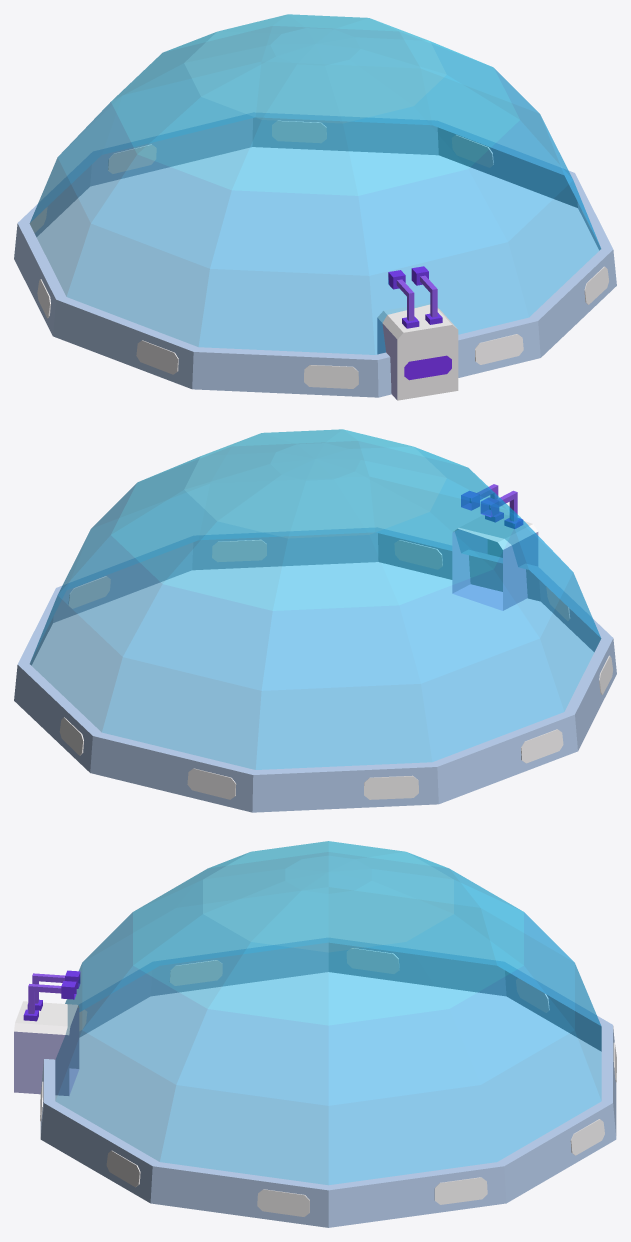
Rendered from Building_046_a.fbx.
3 renders of one model, top to bottom at view 1: azimuth 30°, elevation 25°; view 2: azimuth 150°, elevation 25°; view 3: azimuth 270°, elevation 25°, orthographic.
Parts seen in each view (by area): view 1: Building_046_a; view 2: Building_046_a; view 3: Building_046_a.
Boxes of the visible parts, x1=… form: Building_046_a: x1=14, y1=14, x2=616, y2=400; Building_046_a: x1=14, y1=429, x2=616, y2=812; Building_046_a: x1=14, y1=841, x2=616, y2=1227.
Bounding box in the file's own units: 29.74 × 12.36 × 29.61.
